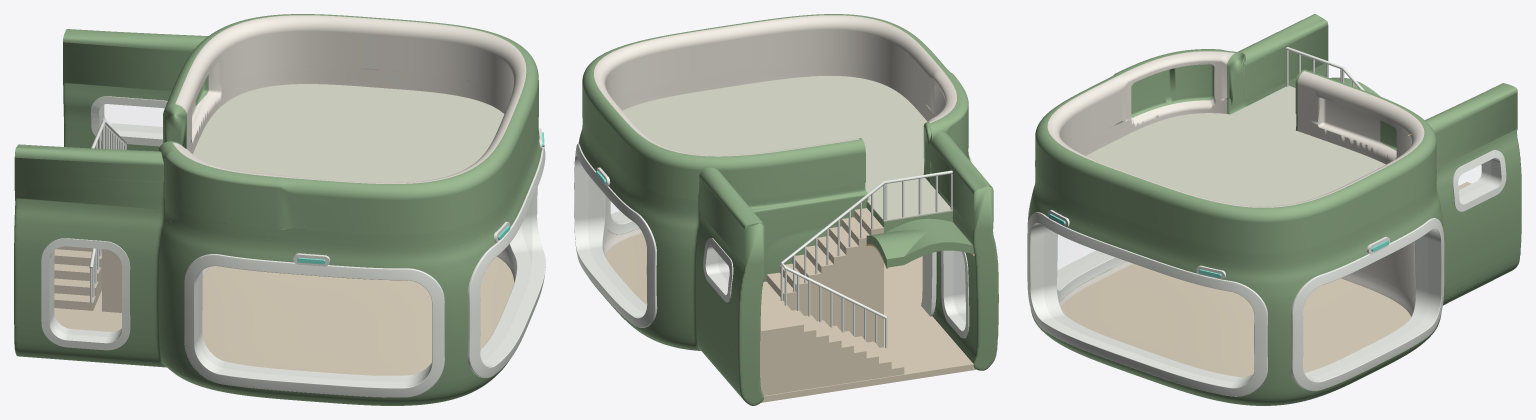
File: pod-building.glb
3 views of the same model, side by side, from view 1: azimuth 30°, elevation 25°; view 2: azimuth 150°, elevation 25°; view 3: azimuth 270°, elevation 25° (orthographic). The views are drawn at different scales.
Parts seen in each view (by area): view 1: part_00057, part_00050, part_00054, part_00052, part_00018, part_00064, part_00017, part_00065; view 2: part_00057, part_00054, part_00050, part_00065, part_00052, part_00064, part_00063, part_00021, part_00018, part_00017, part_00047, part_00049; view 3: part_00057, part_00052, part_00050, part_00054, part_00017.
Boxes of the visible parts, bbox=[...] form: part_00057: bbox=[14, 14, 541, 405]; part_00050: bbox=[54, 256, 513, 375]; part_00054: bbox=[193, 84, 504, 182]; part_00052: bbox=[184, 147, 545, 397]; part_00018: bbox=[41, 238, 130, 350]; part_00064: bbox=[54, 246, 101, 310]; part_00017: bbox=[91, 96, 167, 146]; part_00065: bbox=[102, 249, 121, 312]; part_00057: bbox=[578, 14, 998, 405]; part_00054: bbox=[622, 76, 952, 221]; part_00050: bbox=[605, 233, 976, 402]; part_00065: bbox=[766, 208, 883, 347]; part_00052: bbox=[574, 144, 972, 327]; part_00064: bbox=[792, 310, 904, 389]; part_00063: bbox=[760, 281, 803, 395]; part_00021: bbox=[866, 202, 974, 267]; part_00018: bbox=[940, 250, 969, 338]; part_00017: bbox=[703, 238, 733, 302]; part_00047: bbox=[780, 170, 952, 319]; part_00049: bbox=[921, 252, 936, 316]; part_00057: bbox=[1028, 14, 1521, 405]; part_00052: bbox=[1027, 197, 1444, 396]; part_00050: bbox=[1061, 264, 1410, 376]; part_00054: bbox=[1086, 86, 1385, 206]; part_00017: bbox=[1452, 150, 1506, 211].
Bounding box in the file's own units: 9.77 × 4.38 × 9.49.
